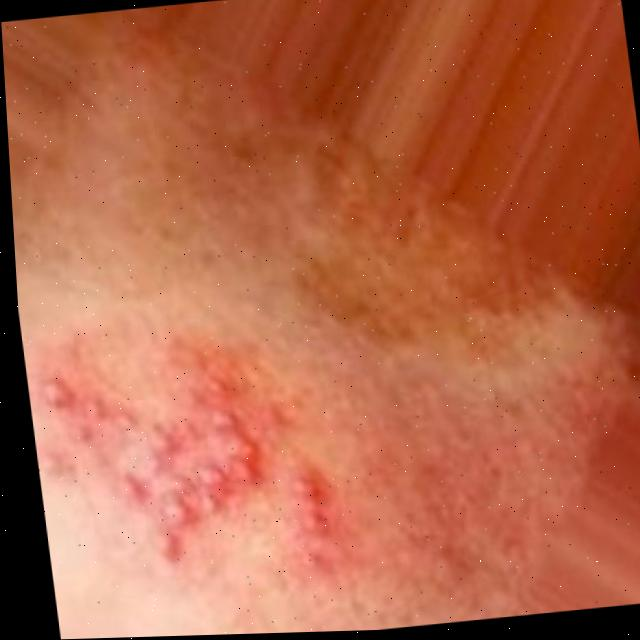Shingles: (23, 312, 285, 592), (286, 471, 348, 575)
